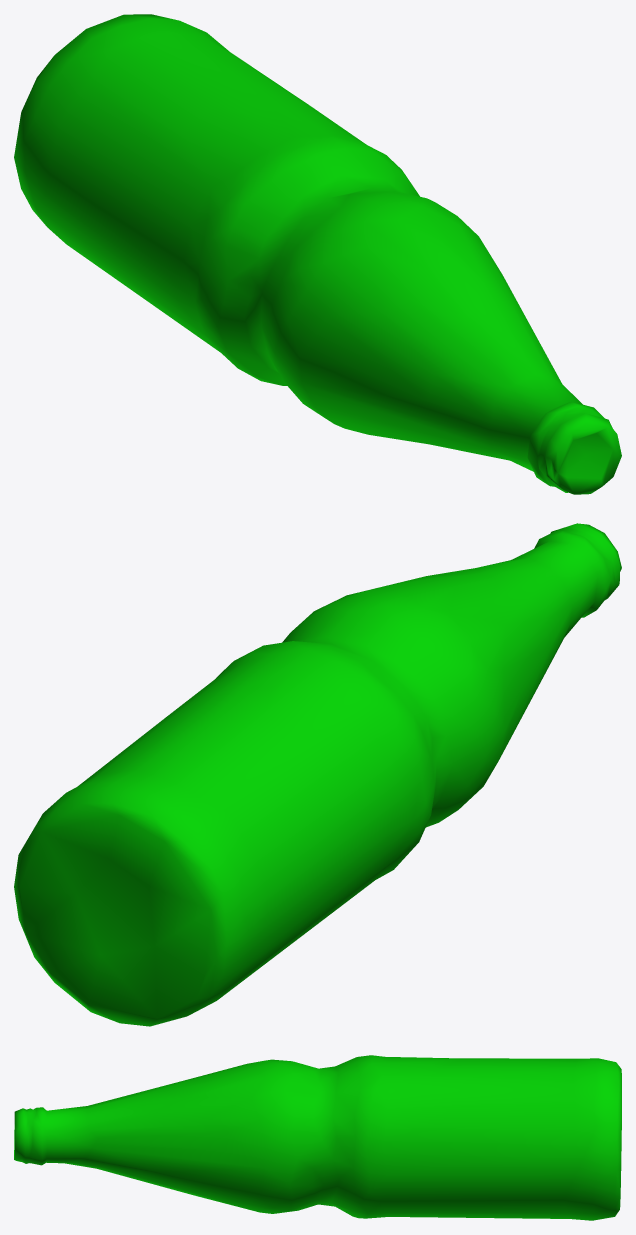
Rendered from bottle9_0.dae.
3 views of the same model, one above another, from view 1: azimuth 30°, elevation 25°; view 2: azimuth 150°, elevation 25°; view 3: azimuth 270°, elevation 25° (orthographic). The views are drawn at different scales.
Parts seen in each view (by area): view 1: Sprudelflasche_800_tex; view 2: Sprudelflasche_800_tex; view 3: Sprudelflasche_800_tex.
Part boxes in pixels (x1,y1,x2,y2): Sprudelflasche_800_tex: (14,14,621,494); Sprudelflasche_800_tex: (14,523,621,1026); Sprudelflasche_800_tex: (14,1055,621,1220).
Size of the model in its own units: 0.0448 by 0.1636 by 0.045.
